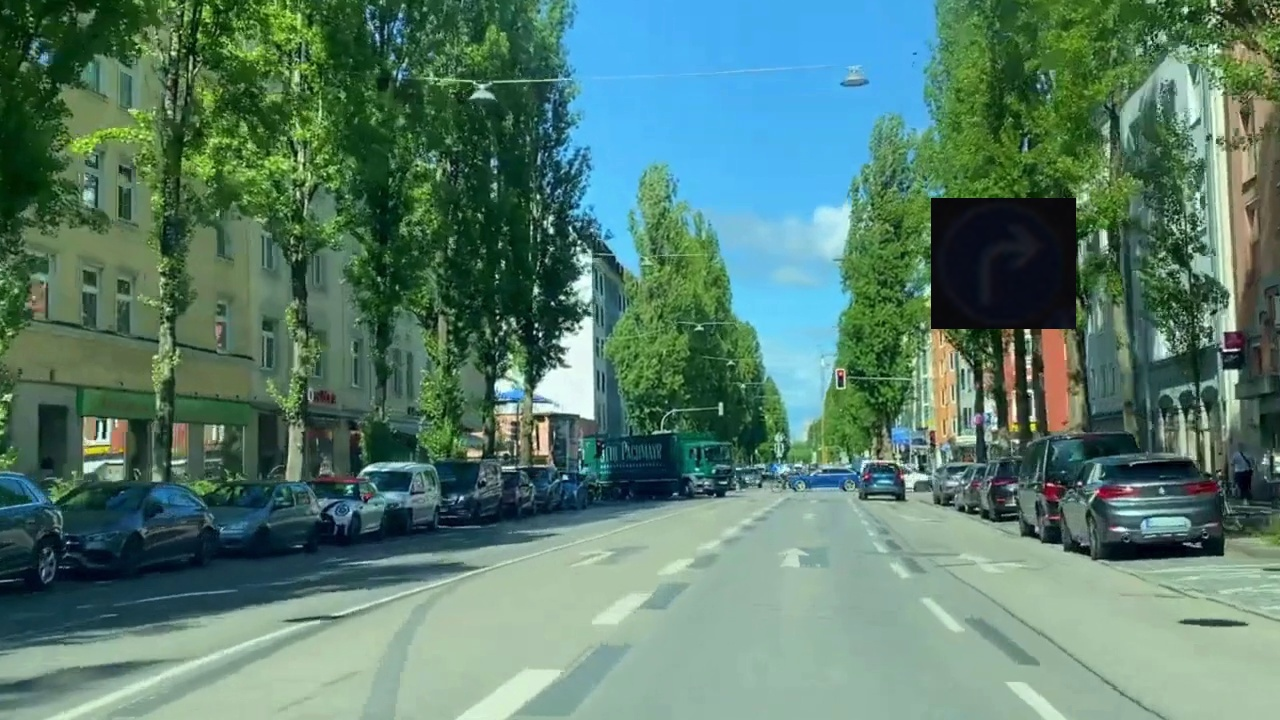Turn right: (931, 198, 1076, 329)
